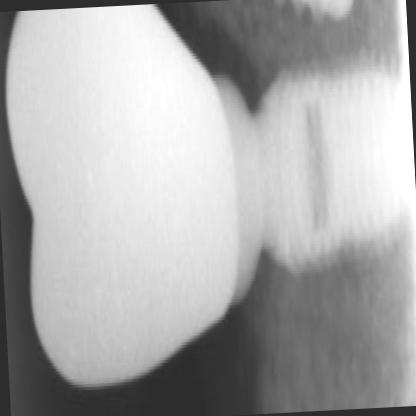Bicon: (233, 12, 415, 328)
